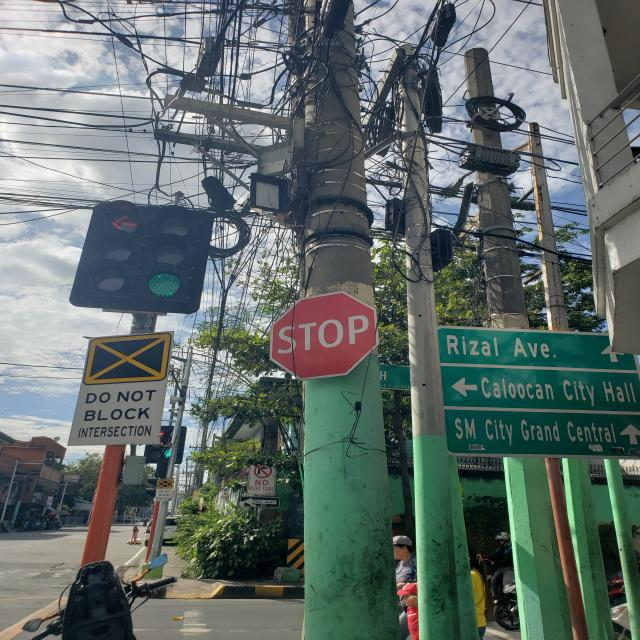stop-sign: (269, 290, 380, 381)
